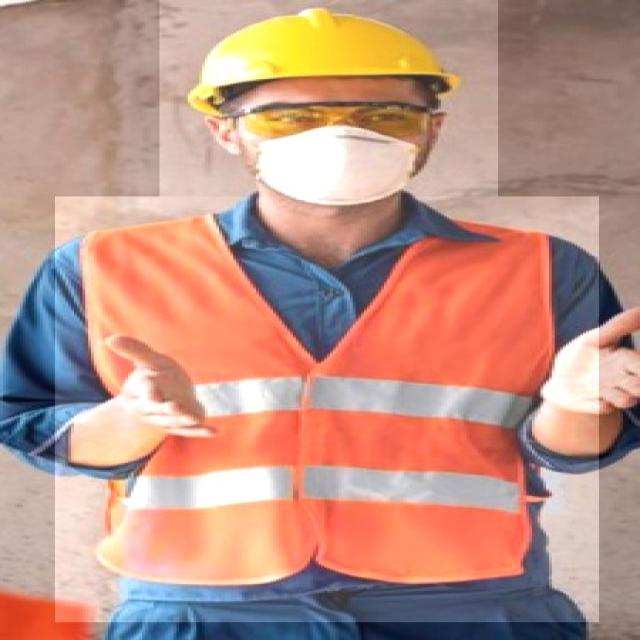Helmet: (159, 0, 498, 220)
Safety Vest: (55, 197, 599, 622)
